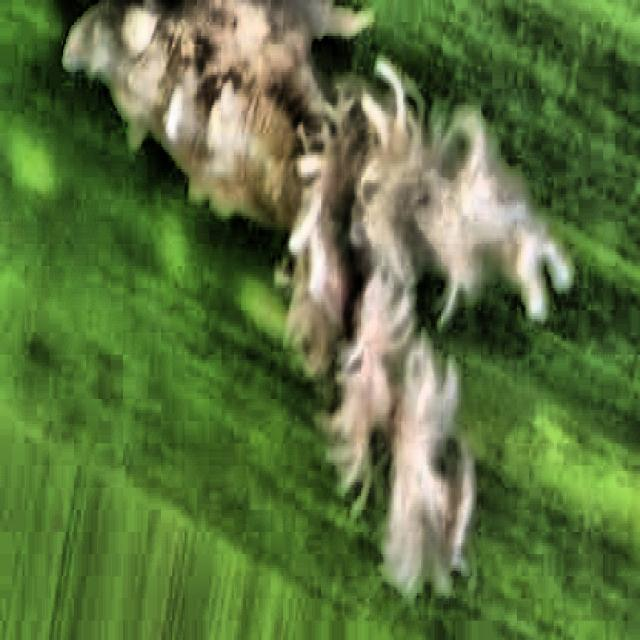Pyrilla-perpusilla: (35, 0, 583, 601)
